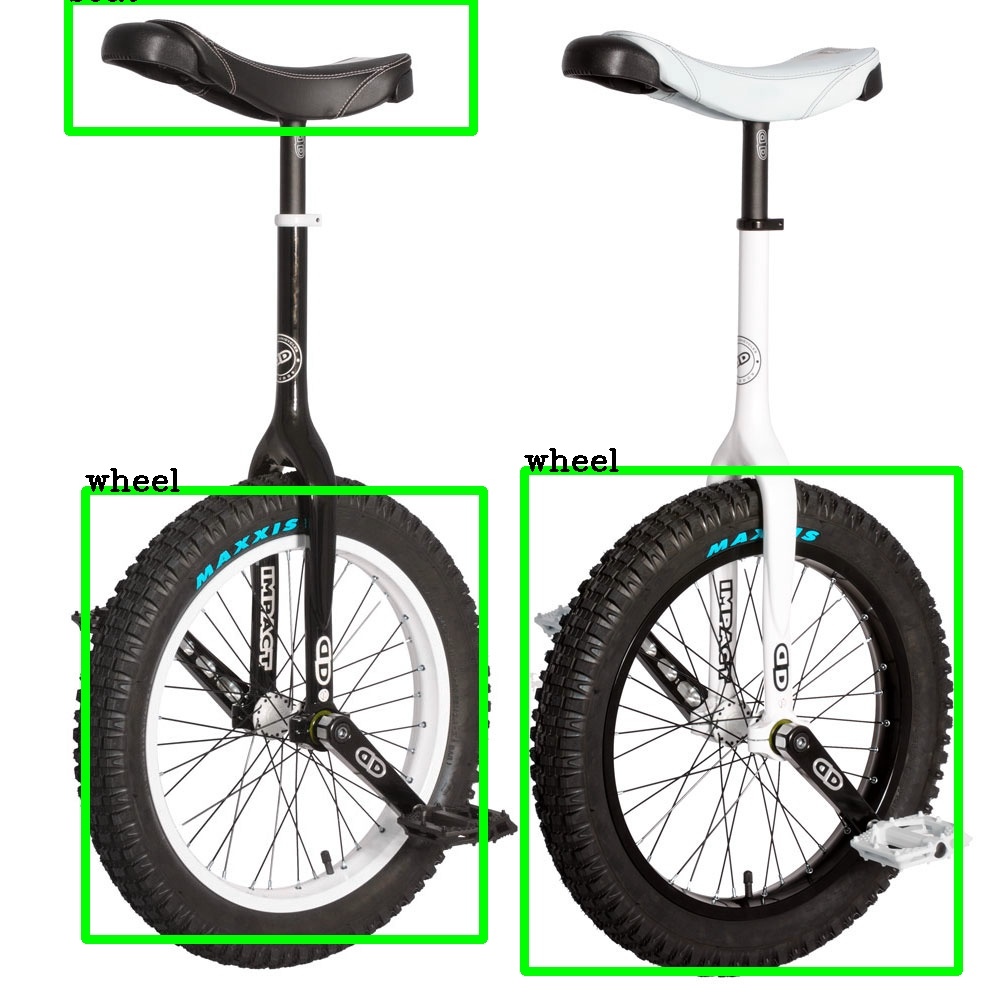seat: (68, 0, 473, 131)
wheel: (524, 470, 958, 971), (85, 490, 483, 939)
